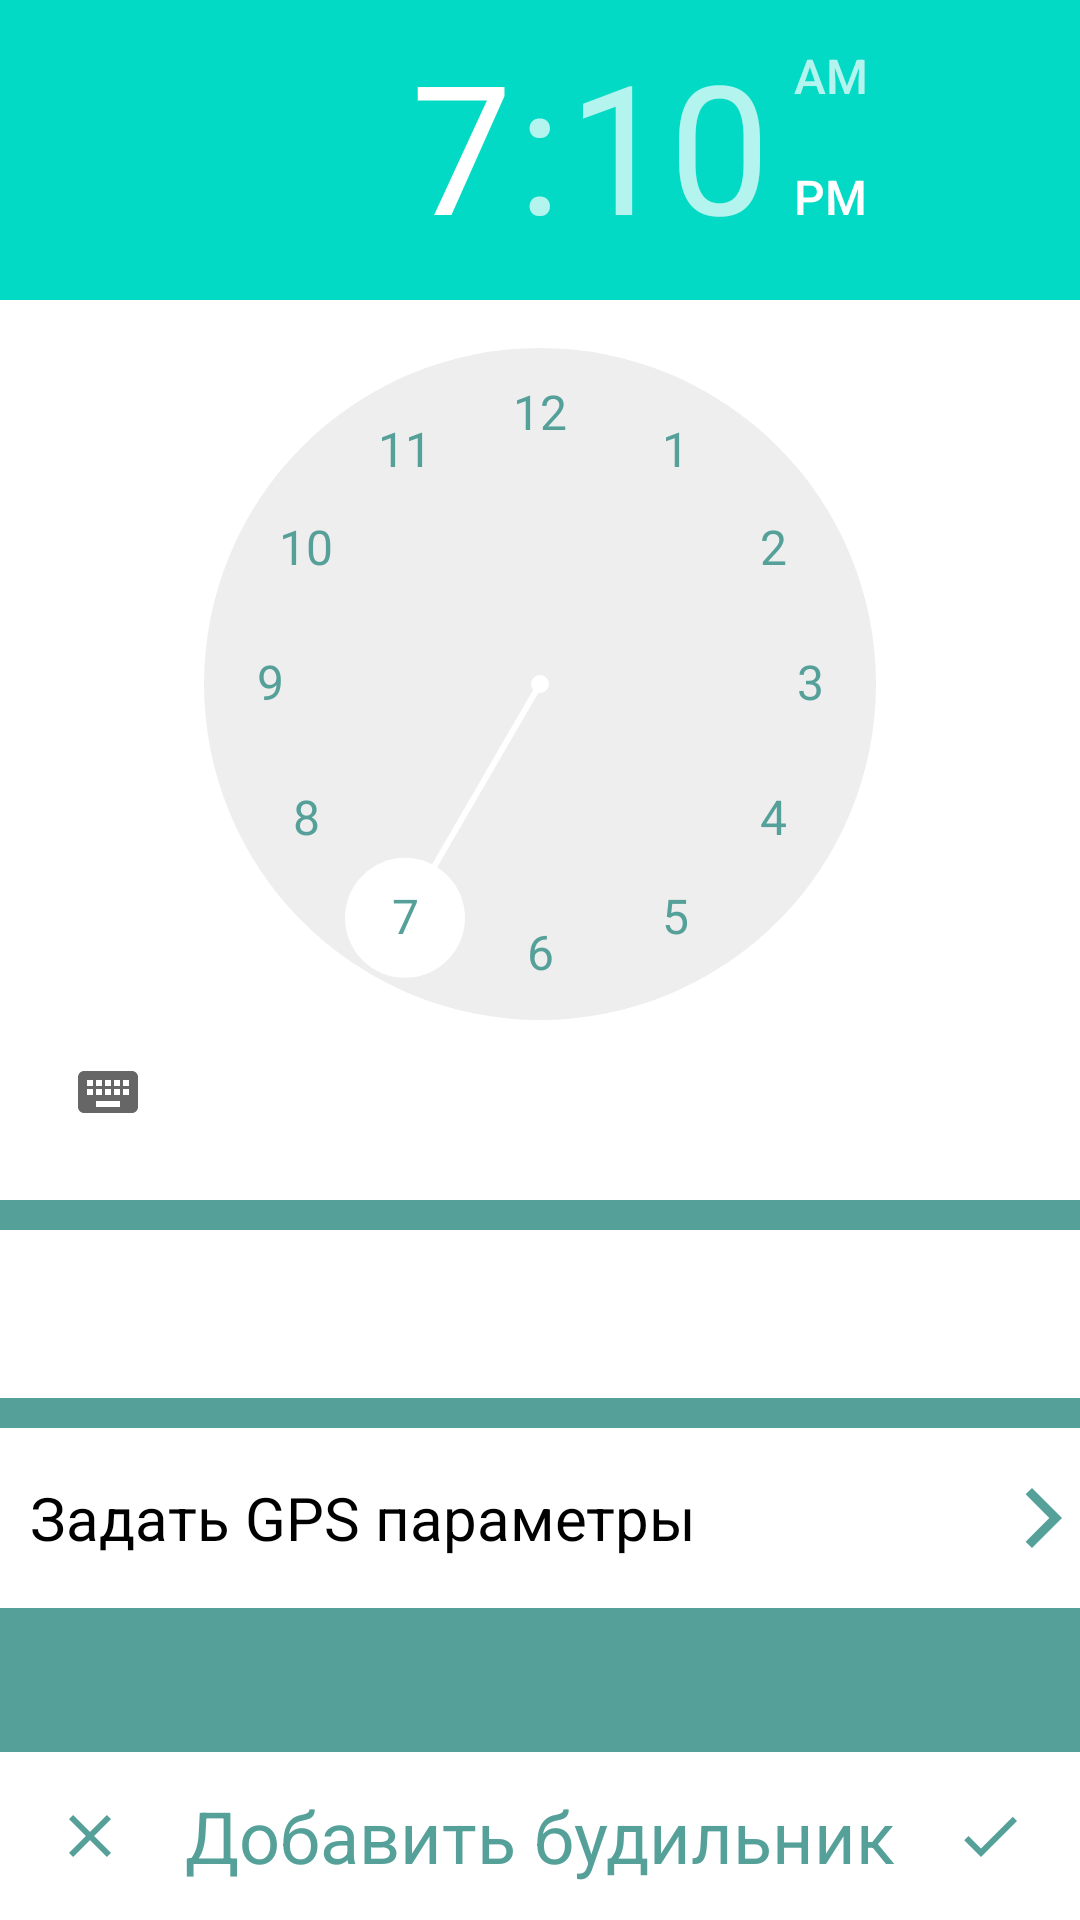

Where to tap for icons on this 1080 x 1920 app screen, as (x,y):
arrow forward: (1044,1518)
check: (990,1837)
close: (90,1836)
